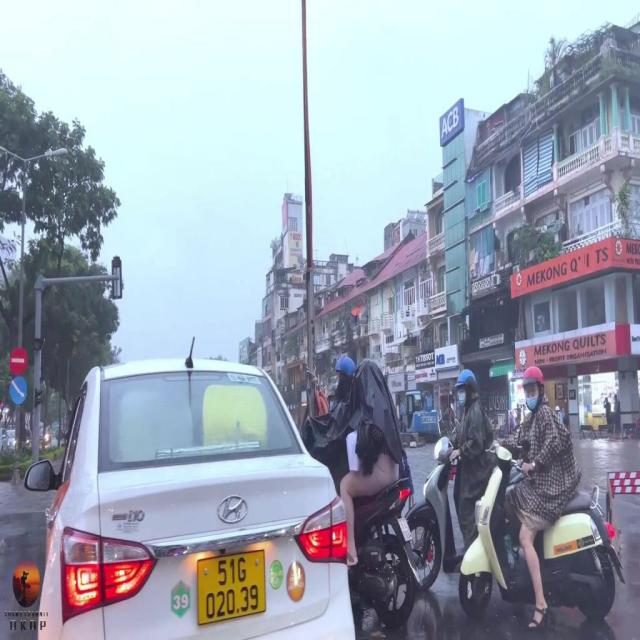cam_xe_di_nguoc_chieu: (10, 350, 28, 376)
huong_phai_di_vuot_chuong_ngai_vat_phai: (9, 376, 27, 404)
